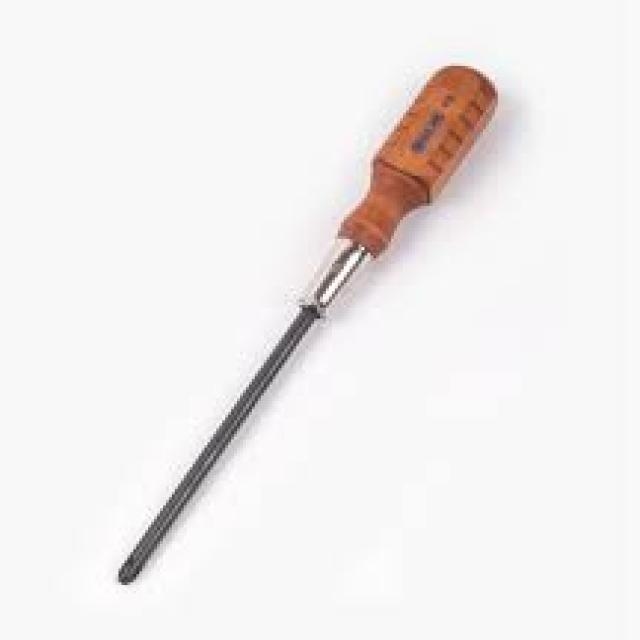screw driver: (45, 8, 529, 590)
